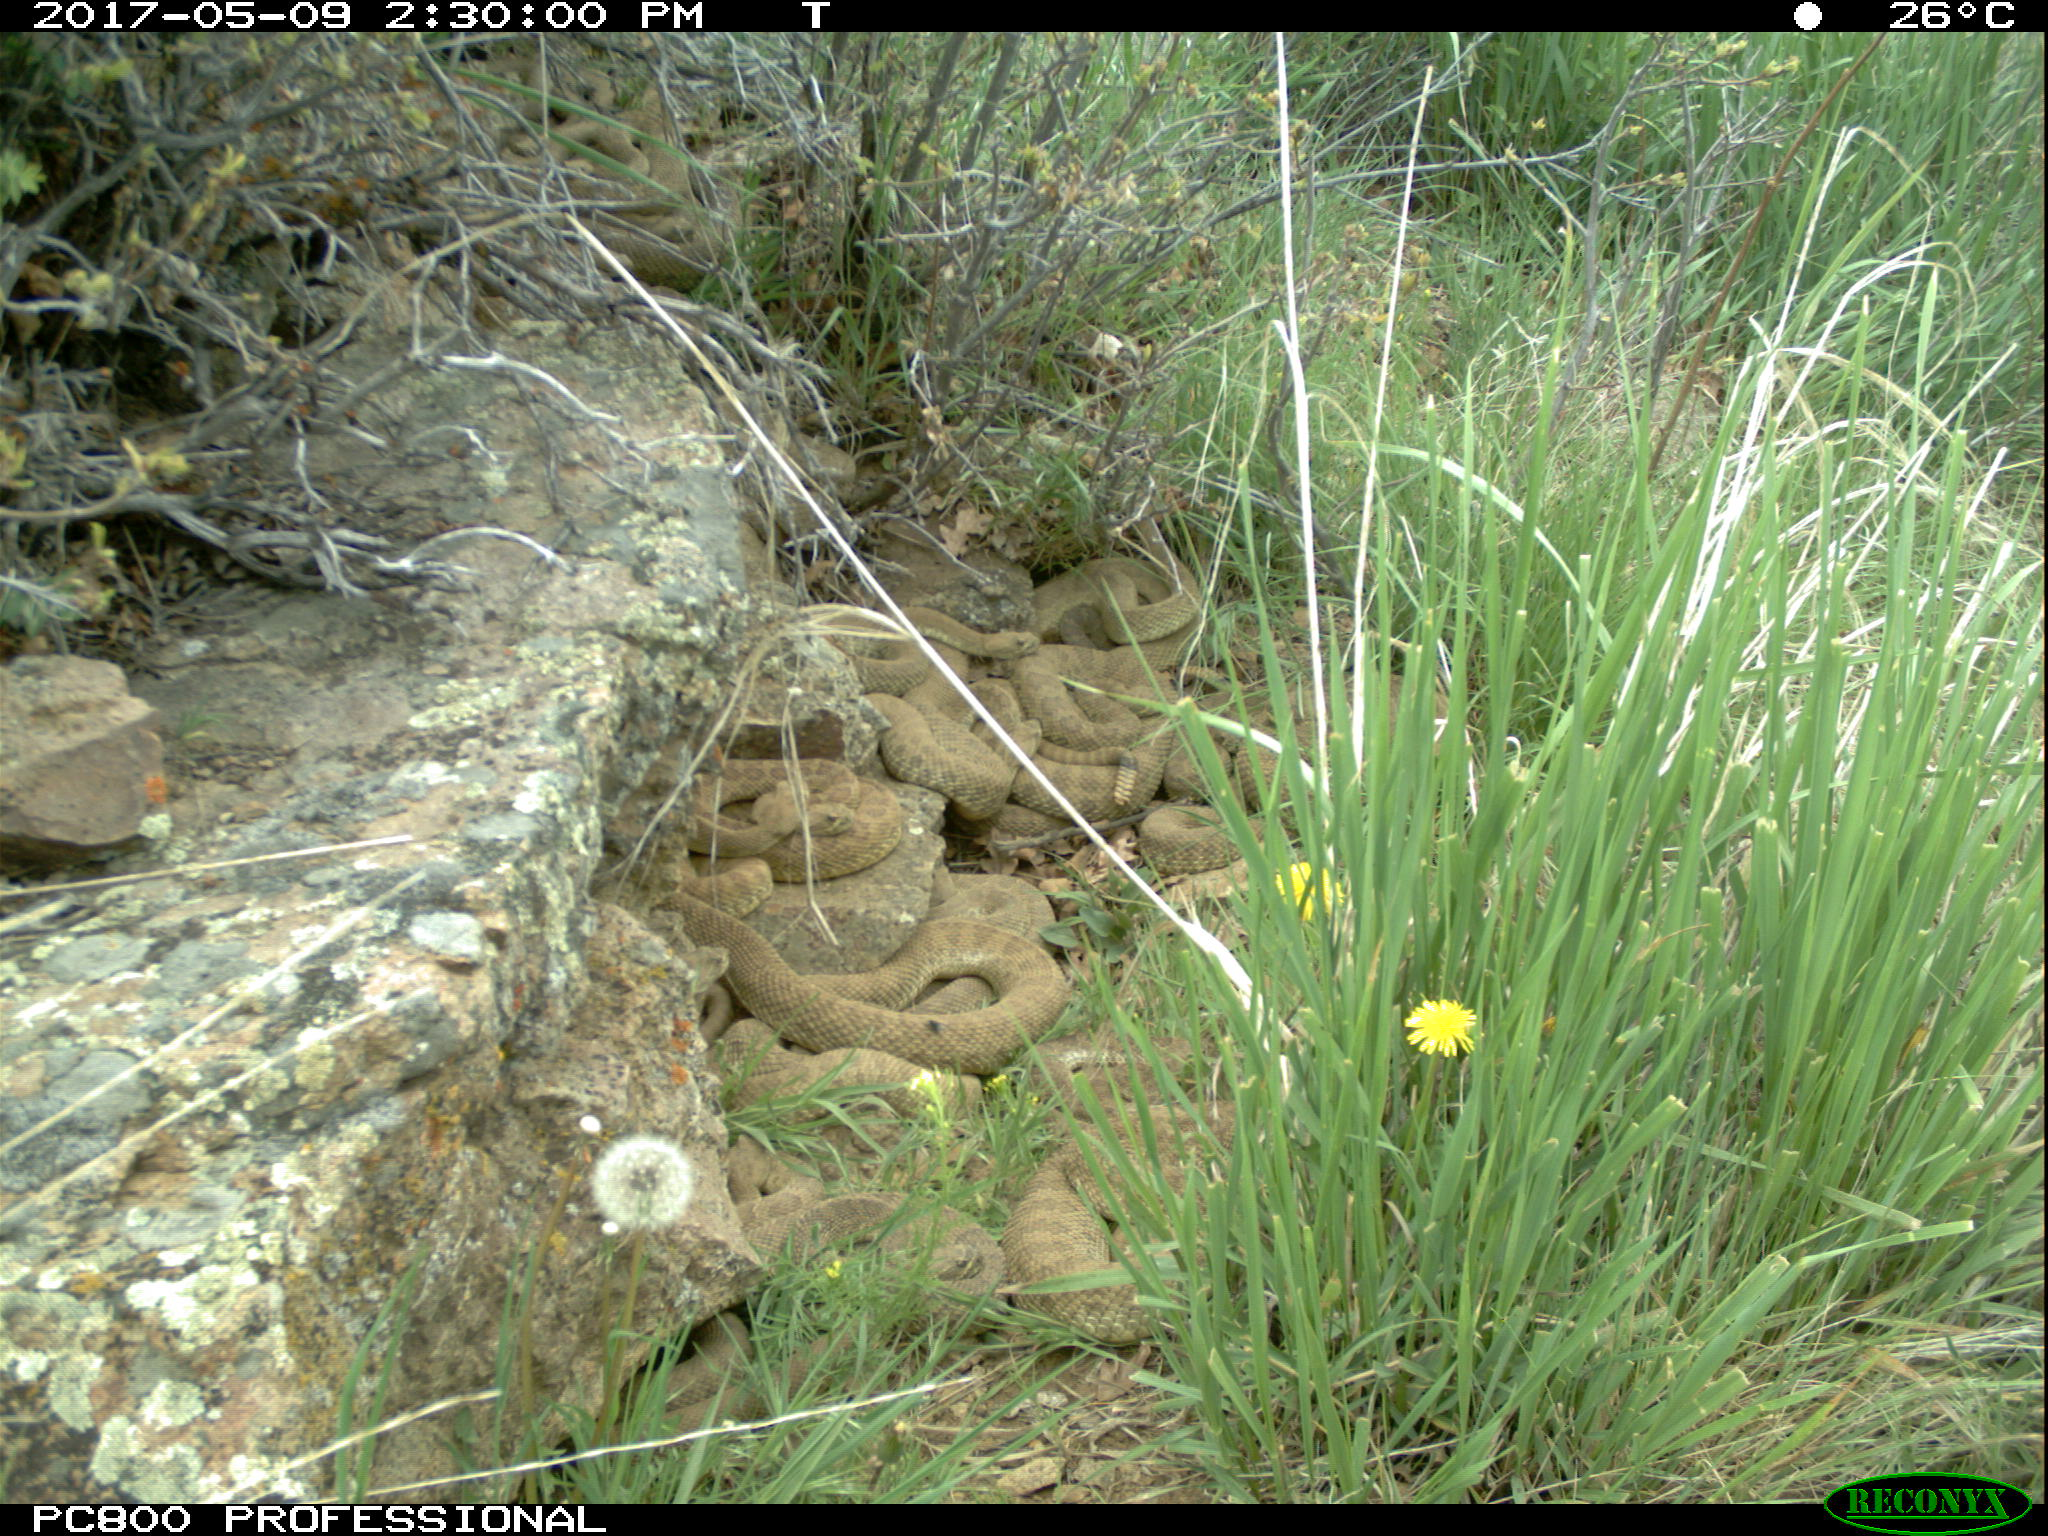snake: (679, 894, 1068, 1113), (1016, 1100, 1256, 1338), (1018, 558, 1193, 816), (735, 1178, 1027, 1329), (855, 610, 1050, 820), (1209, 670, 1451, 800), (684, 744, 905, 886), (655, 1317, 863, 1447), (1135, 800, 1285, 899)
